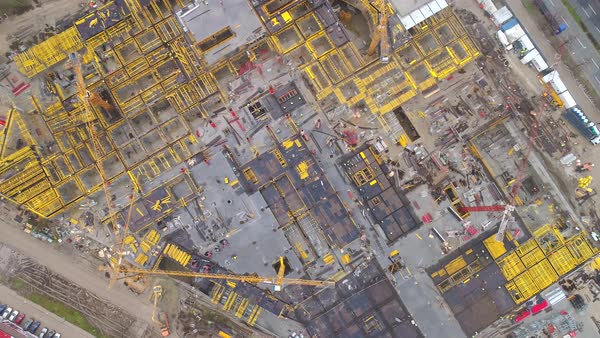crane: (108, 263, 337, 298), (457, 191, 520, 246)
